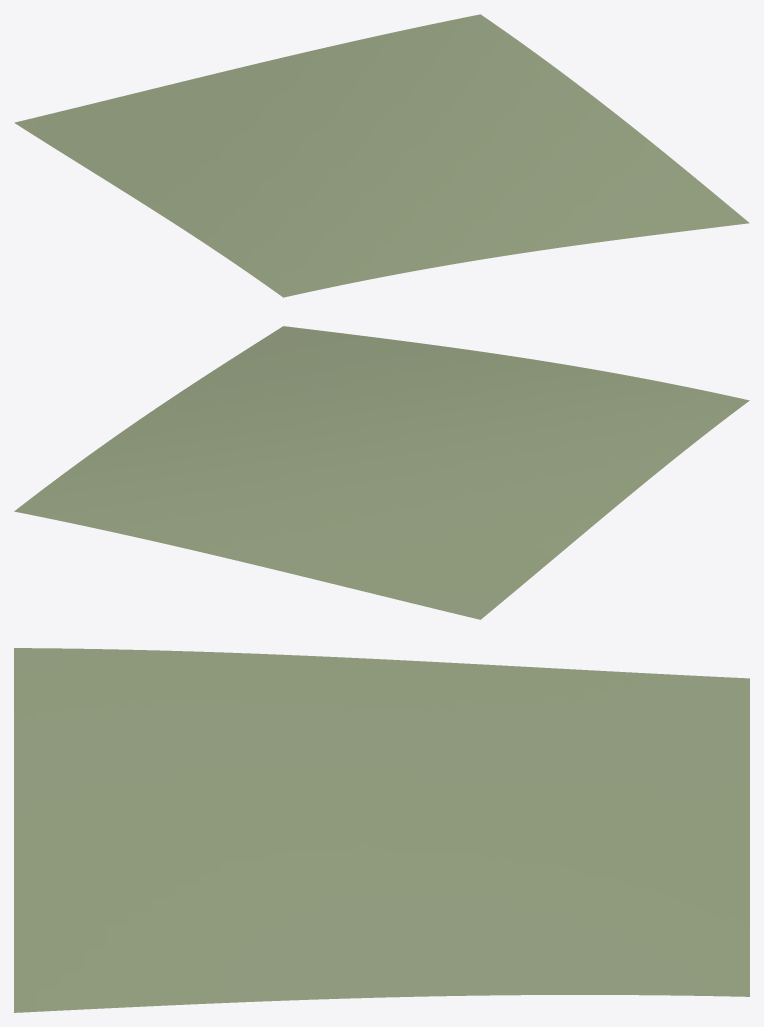
The model's file is alpine-3-0.glb.
The picture shows the model from 3 angles, top to bottom: view 1: azimuth 30°, elevation 25°; view 2: azimuth 150°, elevation 25°; view 3: azimuth 270°, elevation 25°; orthographic projection. The views are drawn at different scales.
Visible parts, largest first — view 1: alpine-3-0; view 2: alpine-3-0; view 3: alpine-3-0.
Part boxes in pixels (left/top/right/bottom): alpine-3-0: left=14, top=14, right=749, bottom=297; alpine-3-0: left=14, top=326, right=749, bottom=619; alpine-3-0: left=14, top=648, right=749, bottom=1012.
Bounding box in the file's own units: 256 × 20.69 × 256.
